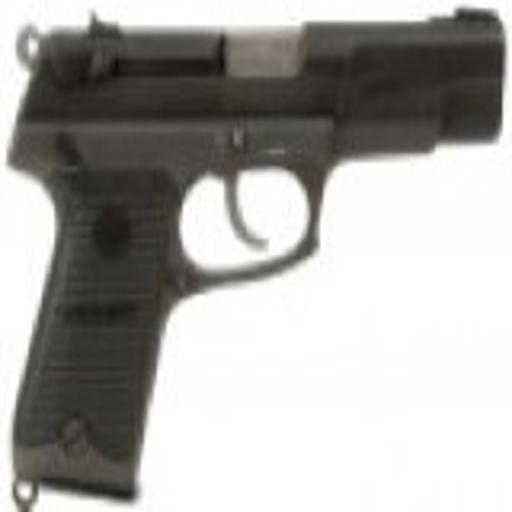Handgun: (5, 7, 511, 498)
